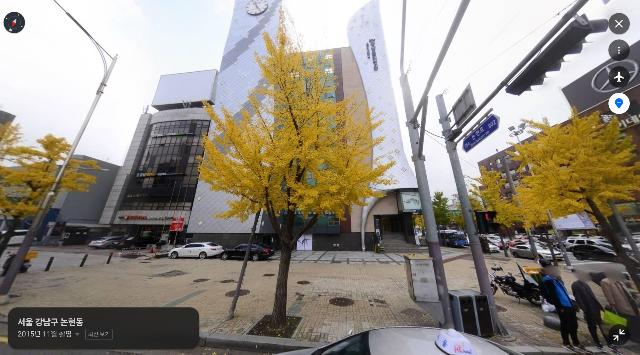ginkgo: (196, 8, 399, 330), (502, 106, 640, 321), (0, 121, 104, 269), (468, 165, 540, 260)
